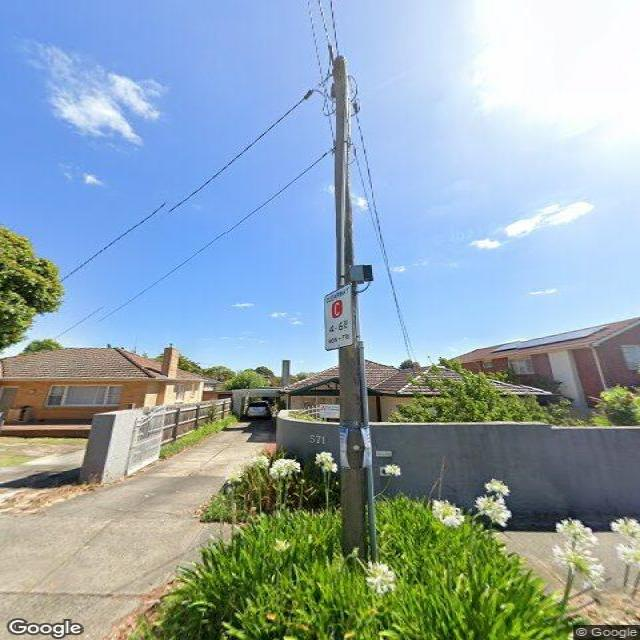mid mount pole: (333, 55, 377, 562)
timber-pole: (331, 56, 379, 563)
